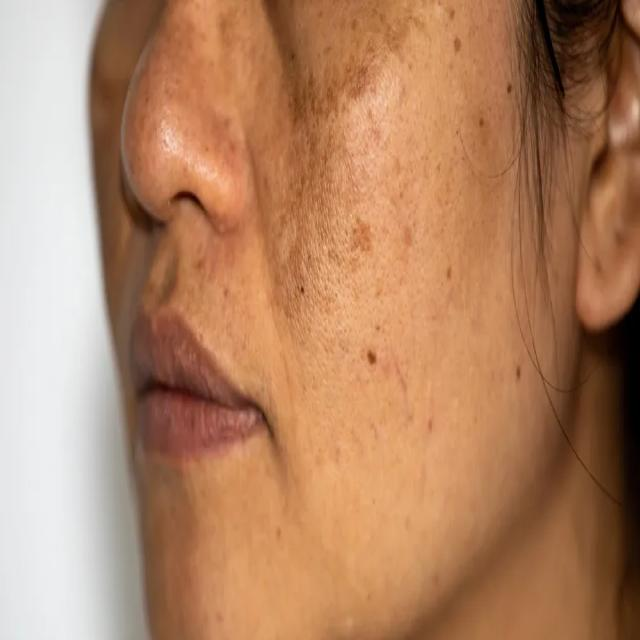pigmentation: (288, 54, 368, 254)
